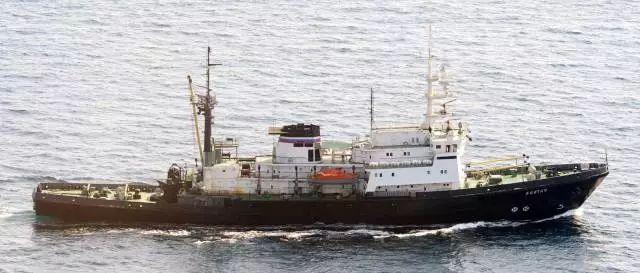otherboat: (29, 39, 612, 236)
